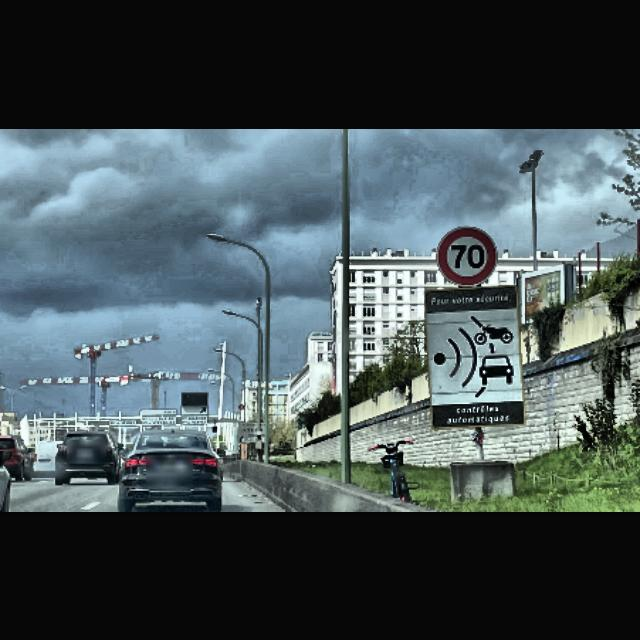speed_70: (437, 222, 498, 286)
